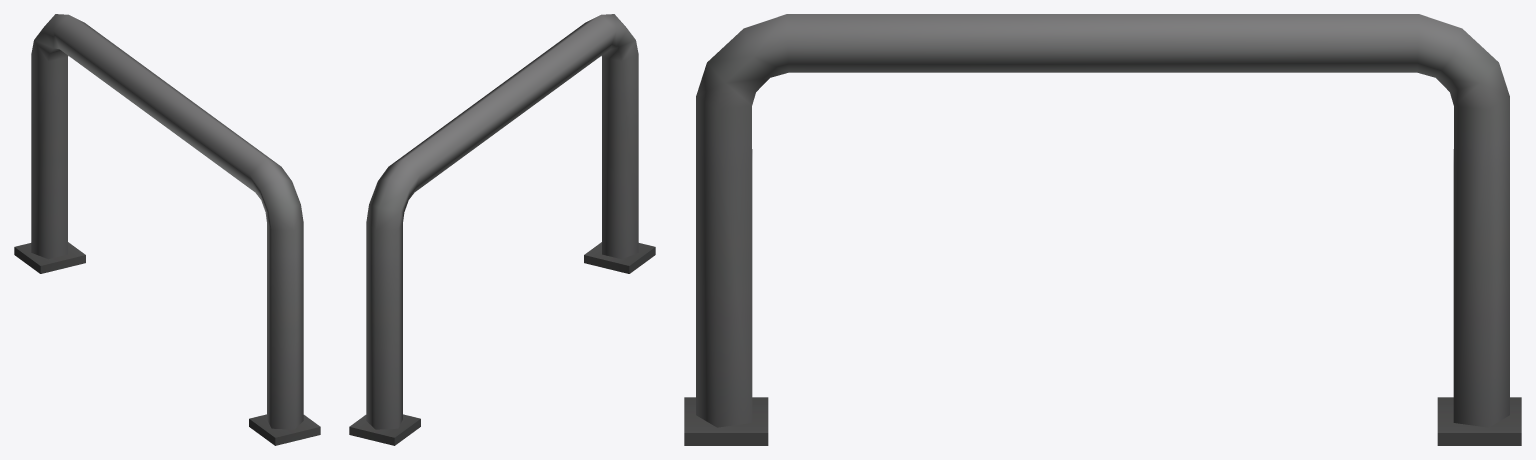
File: Bollards_1_D.glb
The picture shows the model from 3 angles, left to right: view 1: azimuth 30°, elevation 25°; view 2: azimuth 150°, elevation 25°; view 3: azimuth 270°, elevation 25°; orthographic projection. The views are drawn at different scales.
Visible parts, largest first — view 1: Bollards_1_D; view 2: Bollards_1_D; view 3: Bollards_1_D.
Boxes of the visible parts, left/top/right/bottom form: Bollards_1_D: left=14, top=14, right=320, bottom=445; Bollards_1_D: left=349, top=14, right=655, bottom=445; Bollards_1_D: left=684, top=14, right=1521, bottom=445.
Size of the model in its own units: 0.153 by 0.832 by 1.52.
Materials: 1 (1 with a texture image).
